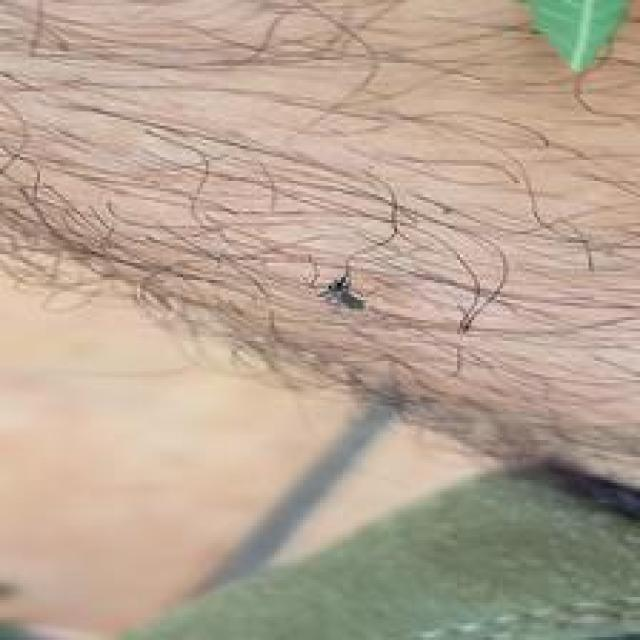Aedes albopictus: (306, 254, 366, 312)
